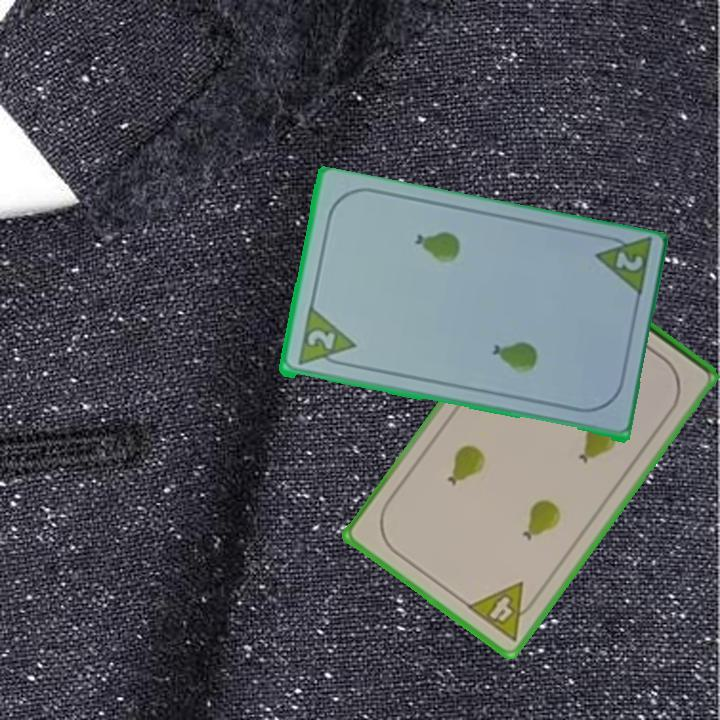2p: (590, 231, 654, 302), (303, 326, 338, 353)
4p: (463, 578, 543, 644)
